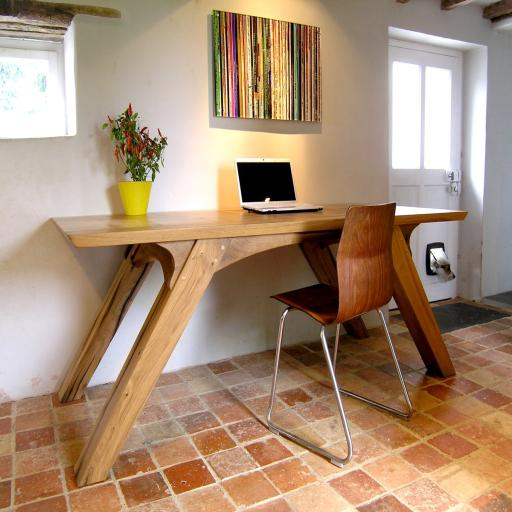Door: (388, 40, 464, 310)
chair: (266, 201, 414, 467)
desk: (50, 201, 468, 488)
wall: (0, 0, 512, 403)
